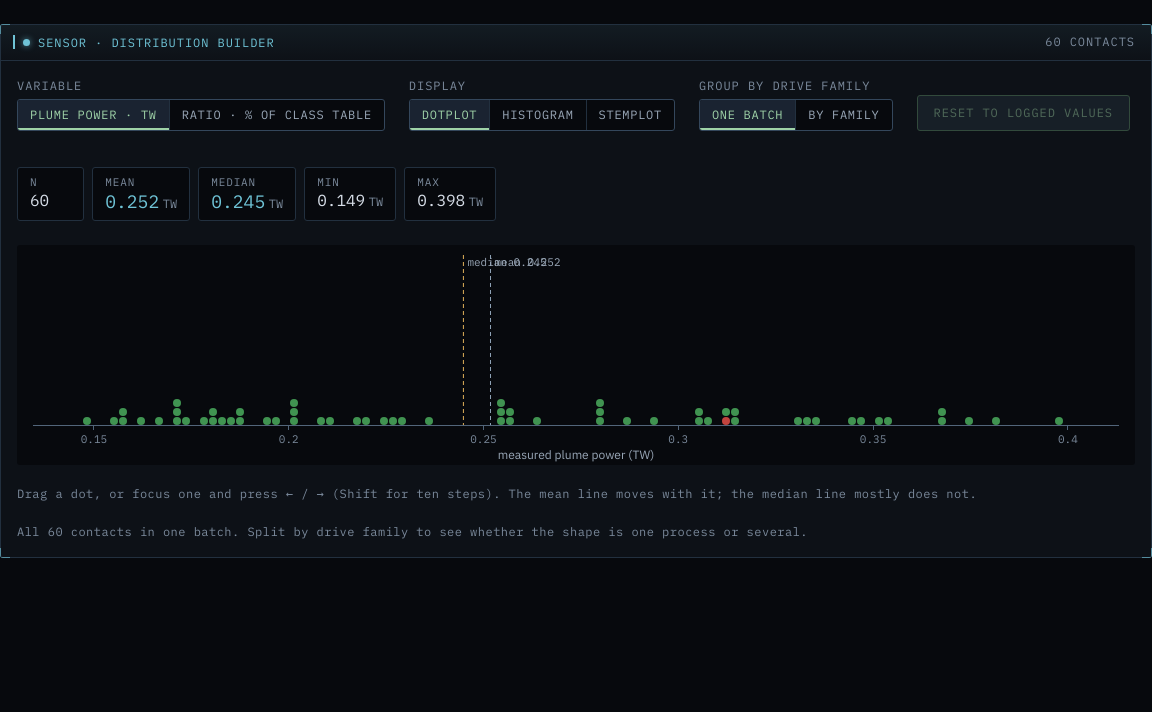
<DistributionBuilder> › opens on the variable it is given and offers the stemplot
Click the radio button labelled "stemplot" at (630, 114), box [587, 100, 674, 130]
(page scrolled)
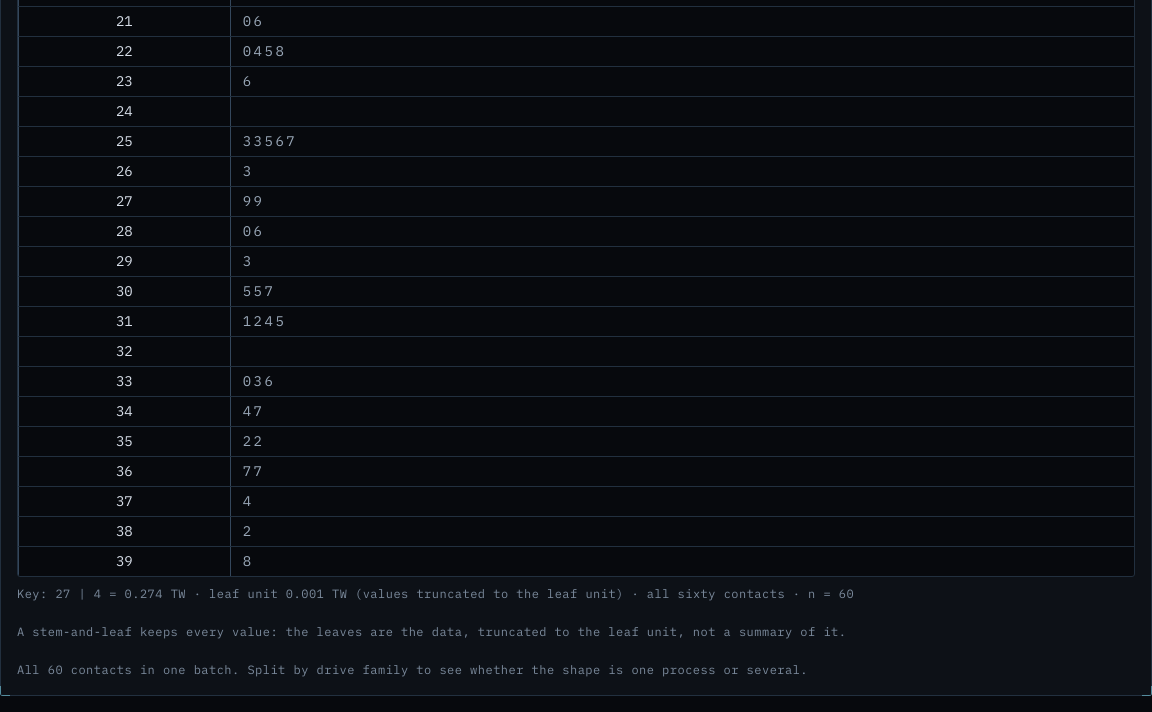
Result: the text "leaf unit" is shown at [186, 586, 286, 601]
